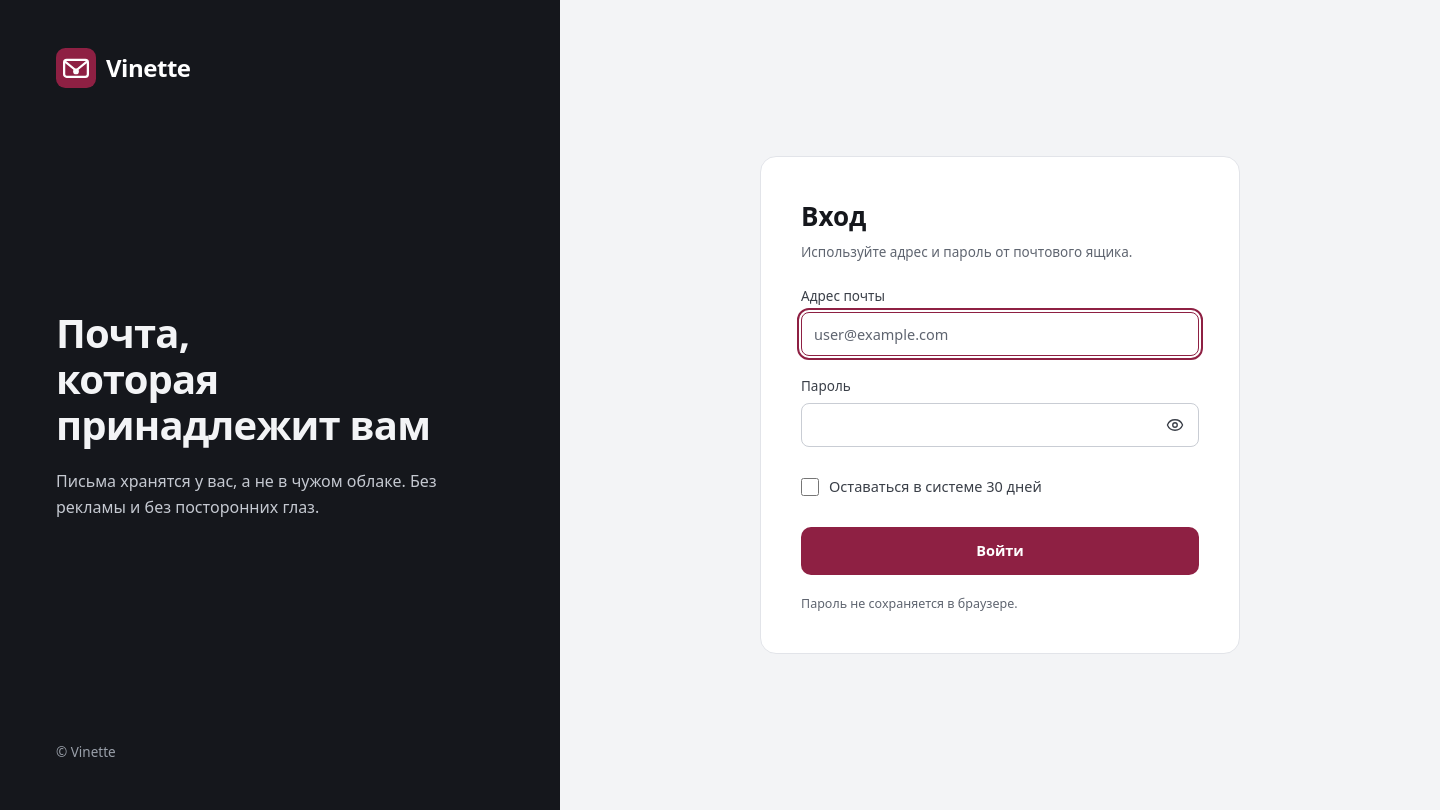
Test case: login screen › tells how long to wait after too many attempts, rounded up to whole minutes
Type "alice@vinette.test" into the field labelled "Адрес почты" at (1000,334), box [801, 312, 1199, 356]
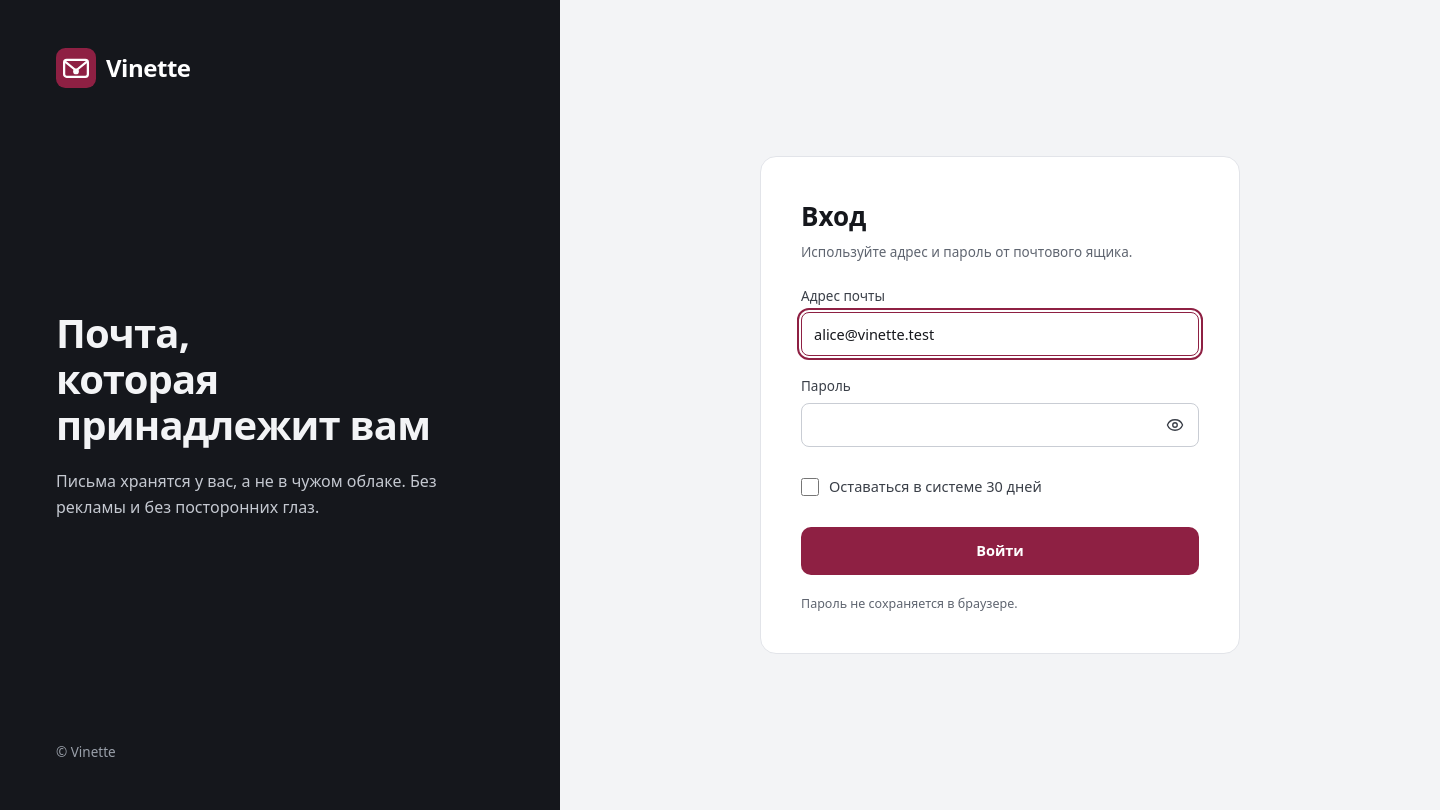
Type "right" into the password field labelled "Пароль" at (1000,424), box [801, 402, 1199, 446]
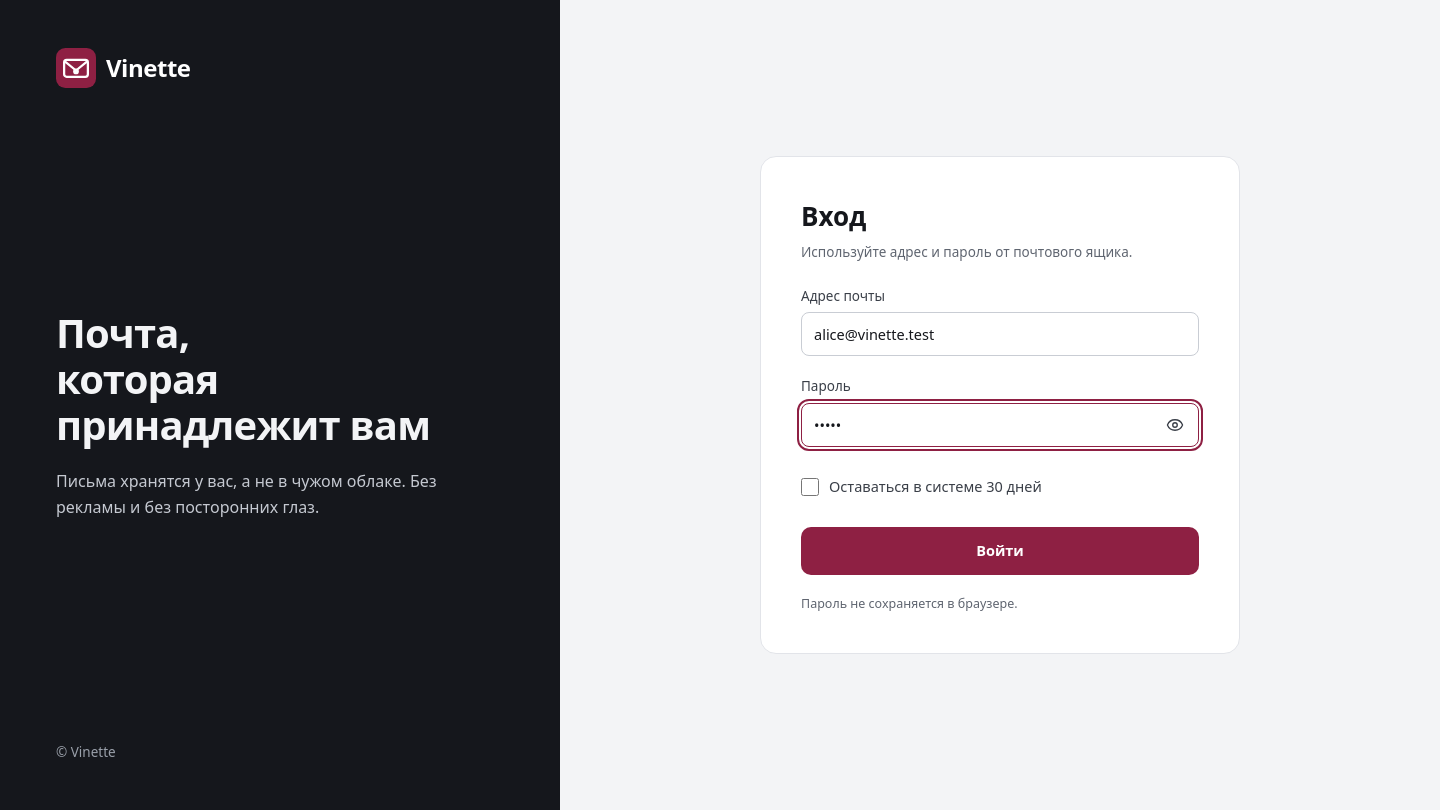
Click the button "Войти" at (1000,550), box [801, 526, 1199, 574]
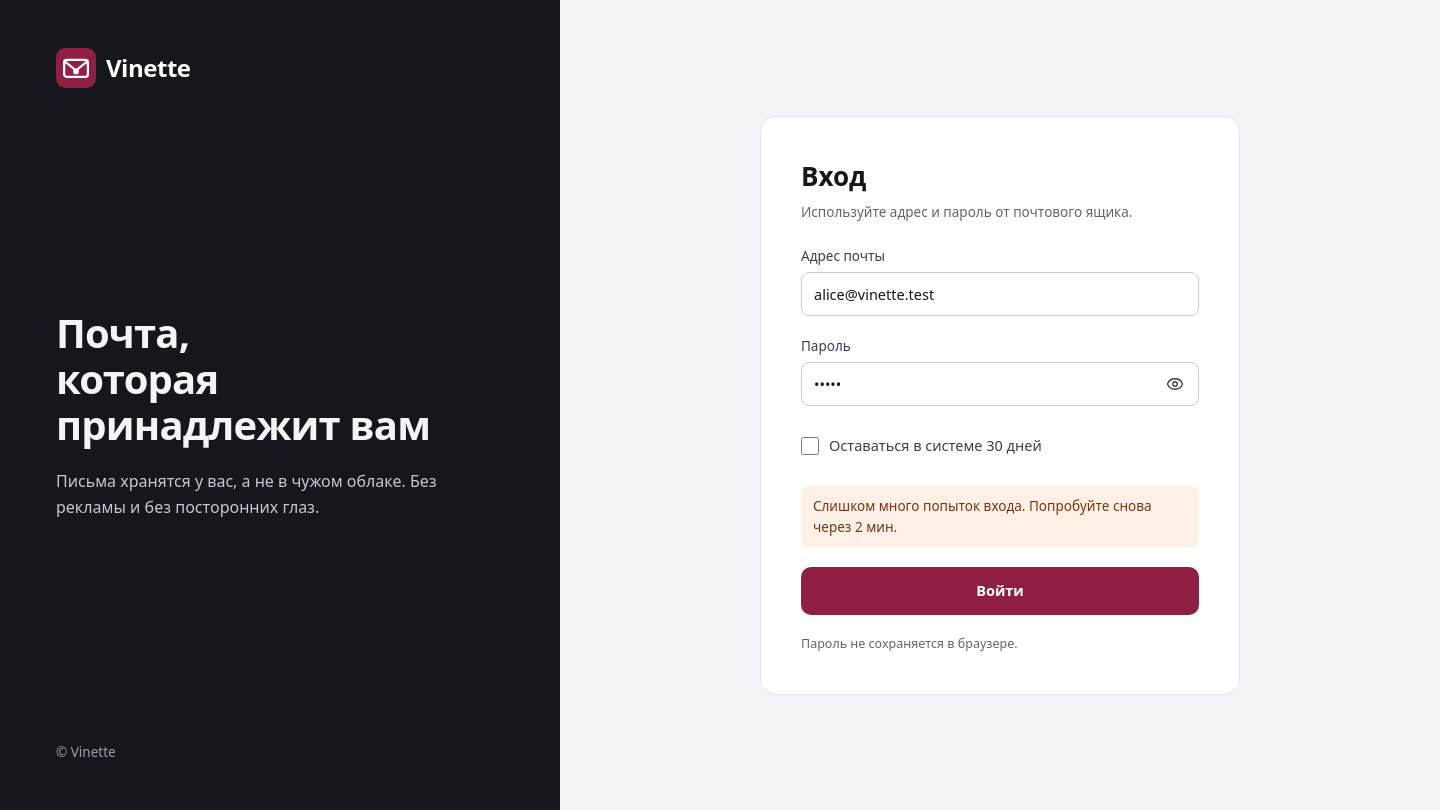
Check: the message shows "через 2 мин", box [813, 497, 1152, 536]
